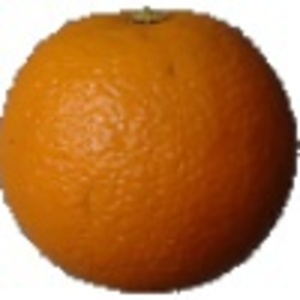laranja: (3, 4, 297, 294)
